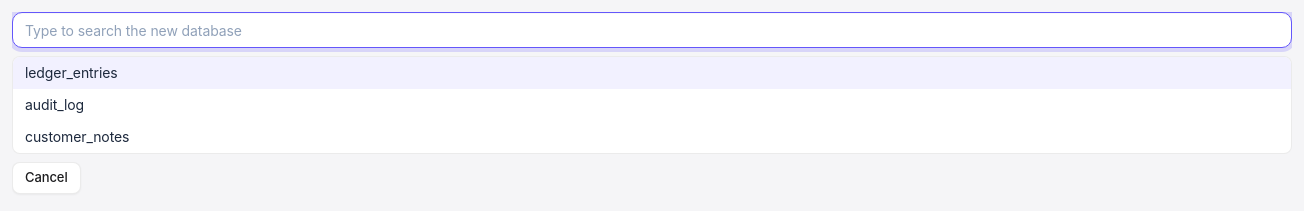
Scenario: PairPicker › narrows the list as you type, ignoring case
The image size is (1304, 211).
Type "LEDG" into the dropdown at (652, 30), box [12,12,1292,48]
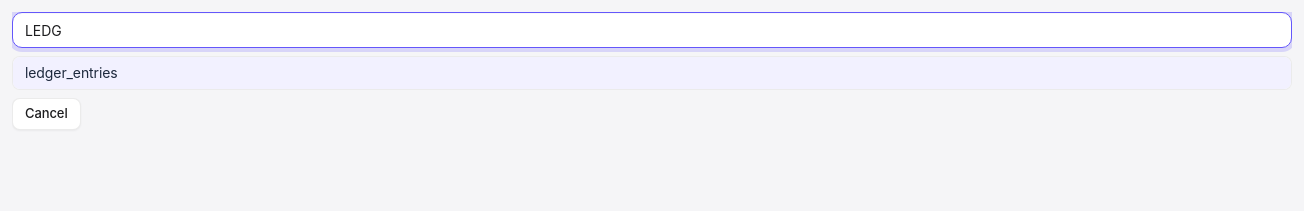
Check: the options read "ledger_entries", in this order, box [13,57,1291,89]
Replace the text in the dropdown with "zzz" at (652, 30), box [12,12,1292,48]
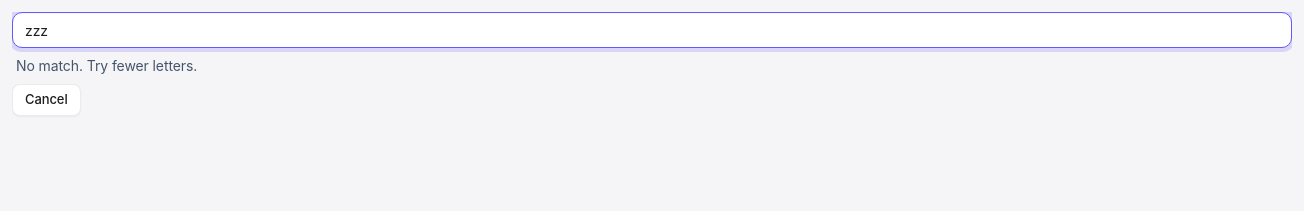
Check: no options are shown
Check: the message shows "No match", box [16,57,197,74]
